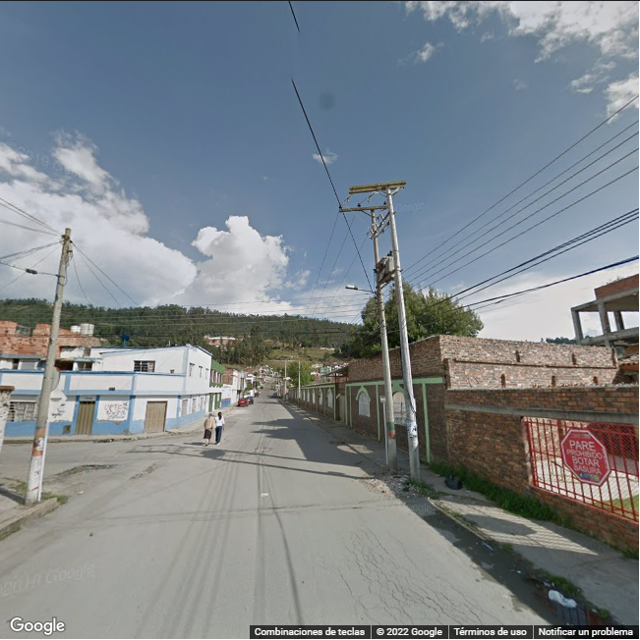D00: (382, 524, 440, 585), (336, 569, 382, 628), (444, 580, 503, 623), (348, 543, 378, 599)
